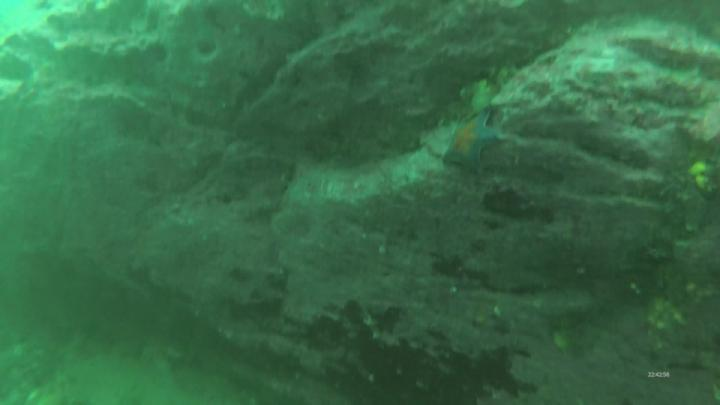starfish: (440, 105, 506, 180)
